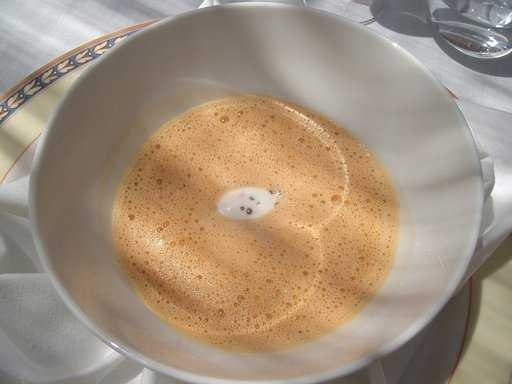soup: (70, 73, 398, 356)
